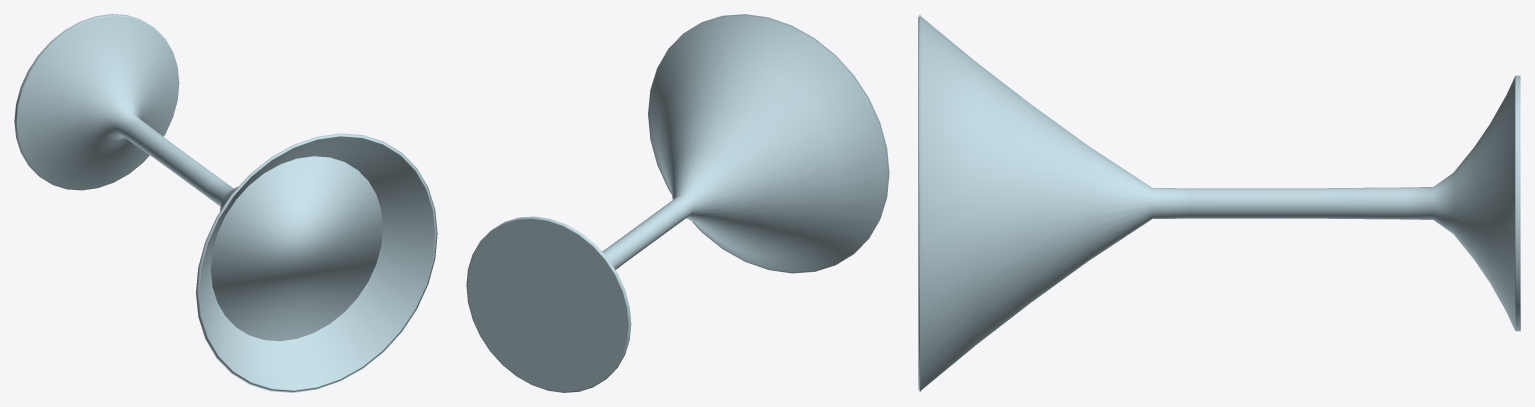
File: martini.fbx
3 renders of one model, left to right at view 1: azimuth 30°, elevation 25°; view 2: azimuth 150°, elevation 25°; view 3: azimuth 270°, elevation 25°, orthographic. The views are drawn at different scales.
Parts seen in each view (by area): view 1: martini glass, liquid; view 2: martini glass; view 3: martini glass.
Boxes of the visible parts, <box> form: martini glass: <box>14,14,437,392</box>; liquid: <box>211,156,382,341</box>; martini glass: <box>466,14,889,392</box>; martini glass: <box>918,15,1520,391</box>.
Size of the model in its own units: 8.63 by 8.63 by 13.7.
